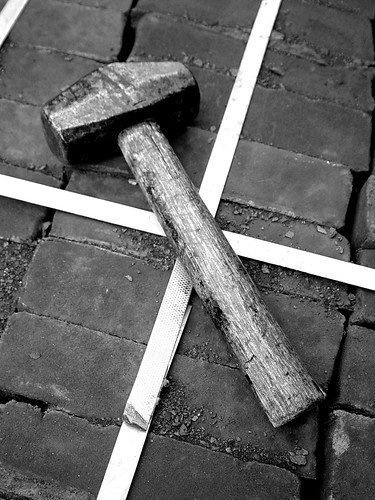hammer: (39, 58, 329, 432)
